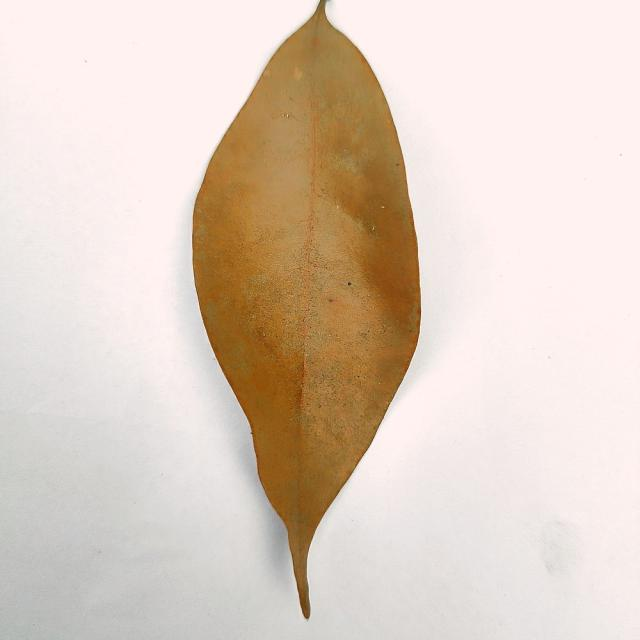Dry_Leaf-Lychee: (191, 0, 422, 621)
